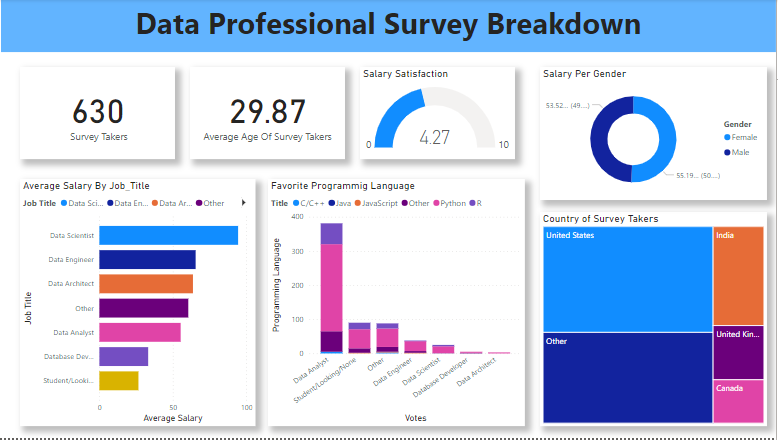

The dashboard page shown, as its layout file describes it:
{"tool":"powerbi","page":{"name":"Page 1","canvas":[1280,720],"ordinal":0},"visuals":[{"type":"textbox","box":[10.1,0,1269.9,87.2],"z":0},{"type":"card","fields":{"Values":["CountNonNull(Data Professional Survey.Unique ID)"]},"box":[41,111.4,254,150.8],"z":1000},{"type":"card","fields":{"Values":["Avg(Data Professional Survey.Q10 - Current Age)"]},"box":[319.6,111.4,254,150.8],"z":2000},{"type":"barChart","title":"Average Salary By Job_Title","fields":{"Category":["Data Professional Survey.Q1 - Which Title Best Fits your Current Role?.1"],"Y":["Avg(Data Professional Survey.Average Salary)"],"Series":["Data Professional Survey.Q1 - Which Title Best Fits your Current Role?.1"]},"box":[40.3,294.6,385.8,405],"z":3000},{"type":"columnChart","title":"Favorite Programmig Language","fields":{"Category":["Data Professional Survey.Q1 - Which Title Best Fits your Current Role?.1"],"Y":["CountNonNull(Data Professional Survey.Q5 - Favorite Programming Language.1)"],"Series":["Data Professional Survey.Q5 - Favorite Programming Language.1"]},"box":[447.1,294.6,420.8,405],"z":4000},{"type":"treemap","title":"Country of Survey Takers","fields":{"Group":["Data Professional Survey.Q11 - Which Country do you live in?.1"],"Values":["CountNonNull(Data Professional Survey.Q11 - Which Country do you live in?.1)"]},"box":[893.2,349.1,372,350.7],"z":5000},{"type":"gauge","title":"Salary Satisfaction","fields":{"Y":["Avg(Data Professional Survey.Q6 - How Happy are you in your Current Position with the following? (Salary))"],"MinValue":["Min(Data Professional Survey.Q6 - How Happy are you in your Current Position with the following? (Salary))"],"MaxValue":["Max(Data Professional Survey.Q6 - How Happy are you in your Current Position with the following? (Salary))"]},"box":[598.2,111.4,254,150.8],"z":6000},{"type":"donutChart","title":"Salary Per Gender","fields":{"Category":["Data Professional Survey.Q9 - Male/Female?"],"Y":["Avg(Data Professional Survey.Average Salary)"]},"box":[893.2,111.4,372,218],"z":7000}]}

Visuals, with their boxes in screenshot pixels (x1, y1, x2, y2), scaled from the page's 1280x720 canvas onto the 778x440 screenshot:
textbox: (x1=6, y1=0, x2=777, y2=53)
card - CountNonNull(Data Professional Survey.Unique ID): (x1=25, y1=68, x2=179, y2=160)
card - Avg(Data Professional Survey.Q10 - Current Age): (x1=194, y1=68, x2=349, y2=160)
"Average Salary By Job_Title" barChart: (x1=24, y1=180, x2=259, y2=428)
"Favorite Programmig Language" columnChart: (x1=272, y1=180, x2=528, y2=428)
"Country of Survey Takers" treemap: (x1=543, y1=213, x2=769, y2=428)
"Salary Satisfaction" gauge: (x1=364, y1=68, x2=518, y2=160)
"Salary Per Gender" donutChart: (x1=543, y1=68, x2=769, y2=201)
